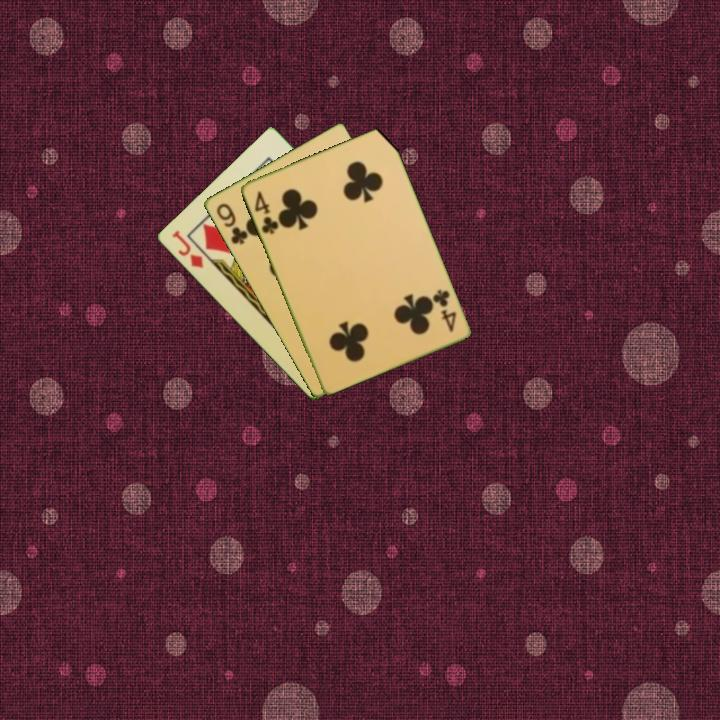4c: (251, 187, 281, 237), (429, 285, 459, 335)
9c: (212, 199, 250, 248)
Jd: (168, 226, 206, 271)
